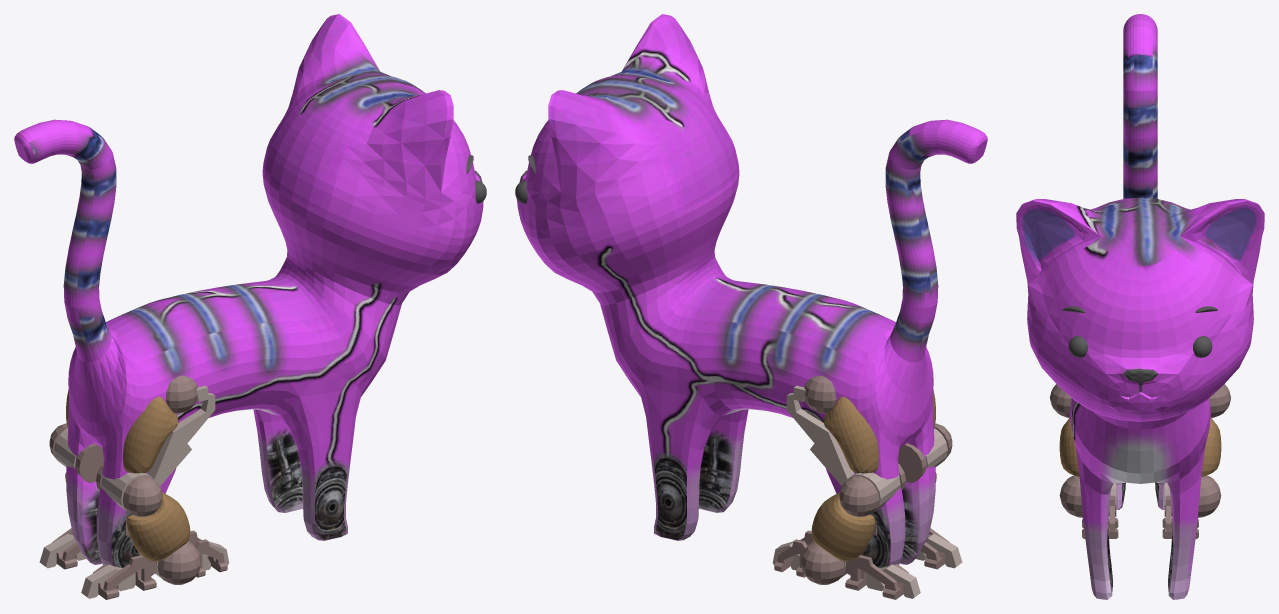
Rendered from Cartoon_Cat_B.fbx.
3 views of the same model, side by side, from view 1: azimuth 30°, elevation 25°; view 2: azimuth 150°, elevation 25°; view 3: azimuth 270°, elevation 25° (orthographic). The views are drawn at different scales.
Visible parts, largest first — view 1: untitled; view 2: untitled; view 3: untitled.
Part boxes in pixels (x1,y1,x2,y2): untitled: [14, 14, 486, 599]; untitled: [515, 14, 987, 599]; untitled: [1016, 14, 1264, 599].
Size of the model in its own units: 672 by 651 by 327.
